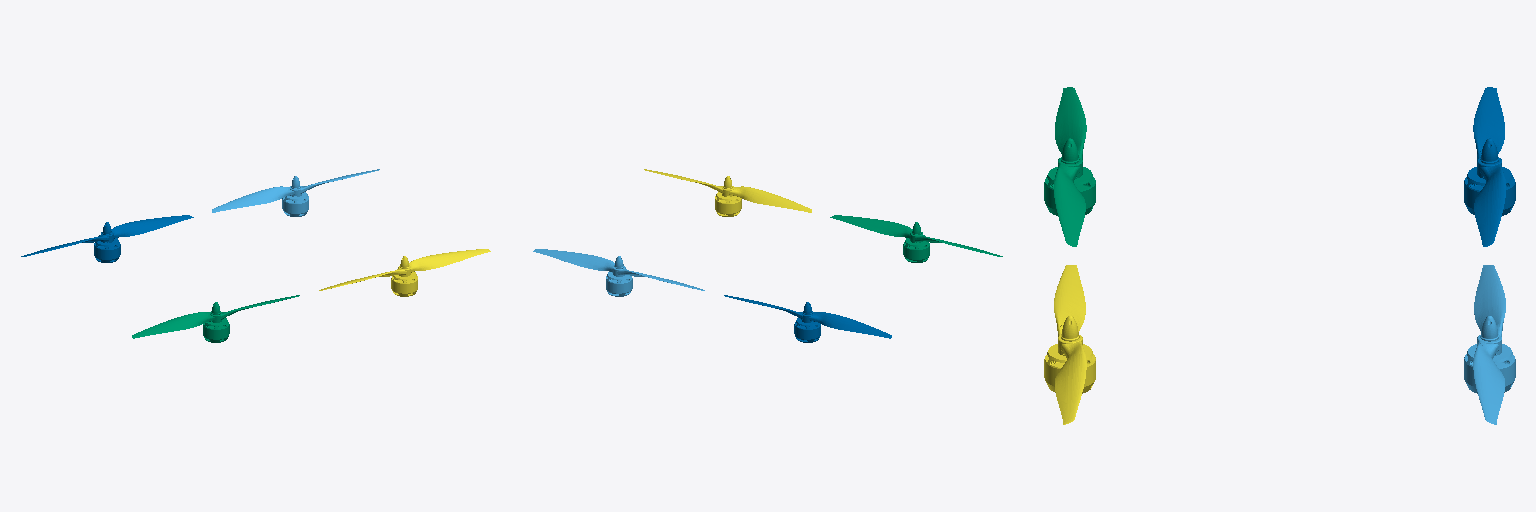
The robot description file, URDF, robot "uav":
<?xml version="1.0"?>
<robot name="uav">

<gazebo>
    <static>true</static>
</gazebo>

  <link name="base_link">
    <visual>
      <origin rpy="0.0 0 0" xyz="0 0 0"/>
      <geometry>
	<mesh filename="package://pomdp_ros/Gazebo/Meshes/UAV/Body.stl" scale="0.01 0.01 0.01"/>
      </geometry>
    </visual>
    <inertial>
       <origin rpy="0 0 0" xyz="0.0 0.0 0.0"/>
       <mass value="0.001" />
       <inertia ixx="0.001" ixy="0" ixz="0" iyy="0.001" iyz="0" izz="0.001" />
    </inertial>

    <collision>
      <origin xyz="0 0 0"/>
      <geometry>
        <box size="0.4 0.4 0.4" />
      </geometry>
    </collision>

  </link>

 <joint name="m1_joint" type="fixed">
    <parent link="base_link" />
    <child link="m1_link" />
    <origin xyz=".17 .17 0" rpy="0 0 0" />
  </joint>

  <link name="m1_link" >
    <inertial>
      <origin xyz="0 0 0" /> 
      <mass value="1.0" />
      <inertia  ixx="0.001" ixy="0.0"  ixz="0.0"  iyy="0.001"  iyz="0.0"  izz="0.001" />
    </inertial>

    <visual>
      <origin xyz="0 0 0"/>
      <geometry>
        <mesh filename="package://pomdp_ros/Gazebo/Meshes/UAV/Motor_CW.stl" scale="0.01 0.01 0.01"/>
      </geometry>
    </visual>

    <collision>
      <origin xyz="0 0 0"/>
      <geometry>
        <box size="0.01 0.01 0.01" />
      </geometry>
    </collision>
  </link>

 <joint name="m2_joint" type="fixed">
    <parent link="base_link" />
    <child link="m2_link" />
    <origin xyz="-.17 -.17 0" rpy="0 0 0" />
  </joint>

  <link name="m2_link" >
    <inertial>
      <origin xyz="0 0 0" /> 
      <mass value="1.0" />
      <inertia  ixx="0.001" ixy="0.0"  ixz="0.0"  iyy="0.001"  iyz="0.0"  izz="0.001" />
    </inertial>

    <visual>
      <origin xyz="0 0 0"/>
      <geometry>
        <mesh filename="package://pomdp_ros/Gazebo/Meshes/UAV/Motor_CW.stl" scale="0.01 0.01 0.01"/>
      </geometry>
    </visual>

    <collision>
      <origin xyz="0 0 0"/>
      <geometry>
        <box size="0.01 0.01 0.01" />
      </geometry>
    </collision>
  </link>

 <joint name="m3_joint" type="fixed">
    <parent link="base_link" />
    <child link="m3_link" />
    <origin xyz=".17 -.17 0" rpy="0 0 0" />
  </joint>

  <link name="m3_link" >
    <inertial>
      <origin xyz="0 0 0" /> 
      <mass value="1.0" />
      <inertia  ixx="0.001" ixy="0.0"  ixz="0.0"  iyy="0.001"  iyz="0.0"  izz="0.001" />
    </inertial>

    <visual>
      <origin xyz="0 0 0"/>
      <geometry>
        <mesh filename="package://pomdp_ros/Gazebo/Meshes/UAV/Motor_CCW.stl" scale="0.01 0.01 0.01"/>
      </geometry>
    </visual>

    <collision>
      <origin xyz="0 0 0"/>
      <geometry>
        <box size="0.01 0.01 0.01" />
      </geometry>
    </collision>
  </link>

 <joint name="m4_joint" type="fixed">
    <parent link="base_link" />
    <child link="m4_link" />
    <origin xyz="-.17 .17 0" rpy="0 0 0" />
  </joint>

  <link name="m4_link" >
    <inertial>
      <origin xyz="0 0 0" /> 
      <mass value="1.0" />
      <inertia  ixx="0.001" ixy="0.0"  ixz="0.0"  iyy="0.001"  iyz="0.0"  izz="0.001" />
    </inertial>

    <visual>
      <origin xyz="0 0 0"/>
      <geometry>
        <mesh filename="package://pomdp_ros/Gazebo/Meshes/UAV/Motor_CCW.stl" scale="0.01 0.01 0.01"/>
      </geometry>
    </visual>

    <collision>
      <origin xyz="0 0 0"/>
      <geometry>
        <box size="0.01 0.01 0.01" />
      </geometry>
    </collision>
  </link>

</robot>

--- What the picture shows (computed from the rendered views, not written in the file) ---
Views: 3 orthographic renders of the robot side by side, from view 1: azimuth 30°, elevation 25°; view 2: azimuth 150°, elevation 25°; view 3: azimuth 270°, elevation 25°.
Robot: uav — 5 links, 4 joints (4 fixed); root link base_link; default pose: all joints at 0.
Links seen in each view (by area): view 1: m3_link, m4_link, m2_link, m1_link; view 2: m1_link, m2_link, m4_link, m3_link; view 3: m3_link, m1_link, m4_link, m2_link.
Boxes of the visible links, x1,y1,x2,y2 form: m3_link: (319, 249, 490, 296); m4_link: (21, 215, 193, 262); m2_link: (132, 295, 299, 342); m1_link: (212, 169, 379, 216); m1_link: (533, 249, 704, 296); m2_link: (830, 215, 1002, 262); m4_link: (724, 295, 891, 342); m3_link: (644, 169, 811, 216); m3_link: (1044, 265, 1095, 424); m1_link: (1464, 265, 1515, 424); m4_link: (1464, 87, 1515, 246); m2_link: (1044, 87, 1095, 246).
Bounding box of the posed robot: 0.6464 × 0.3818 × 0.065 m (x, y, z).
Meshes: 3 distinct files referenced, 4 mesh visuals loaded (2 binary STL); not drawn: 1 (reference not matched to a file when rendering).